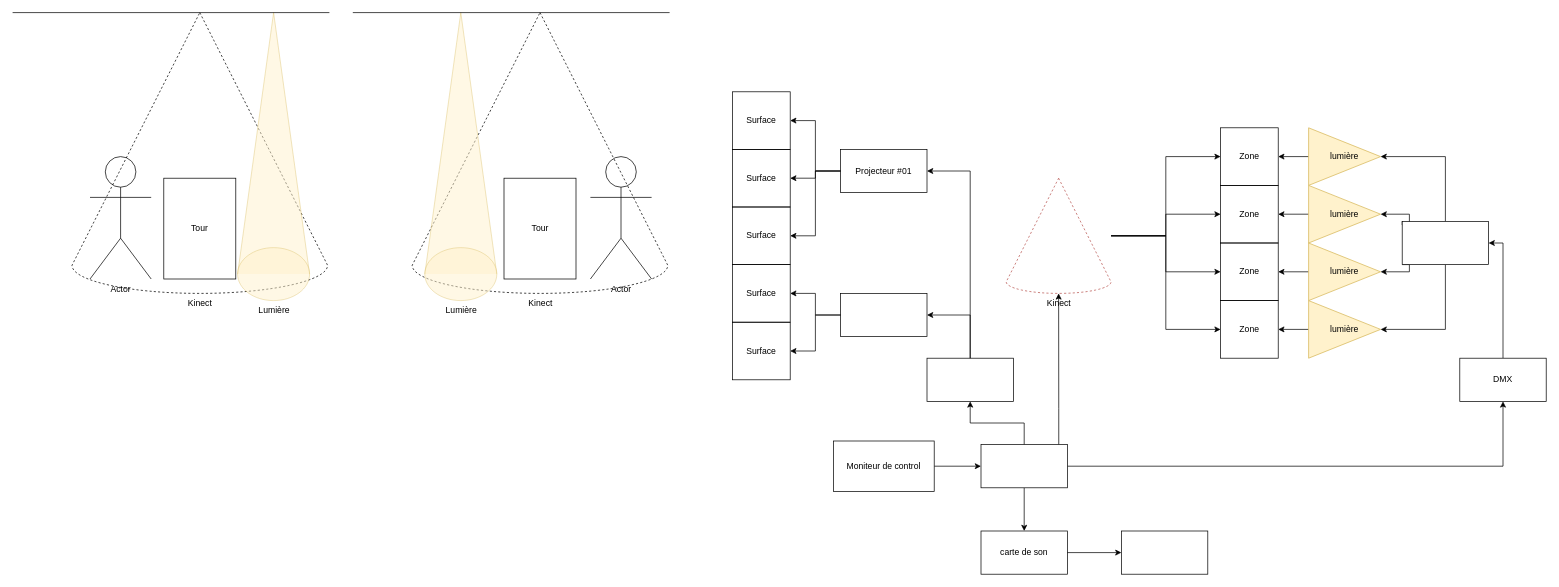
Some shapes in this 1559 by 587 pixel diagram are drawn without their labels. Each missing label, with the centre of its shape:
"gradateur" goes at [1445,243].
"Haut-parleurs" goes at [1164,552].
"Mapping" goes at [969,379].
"ordi" goes at [1023,466].
"Projecteur #02" goes at [883,315].
